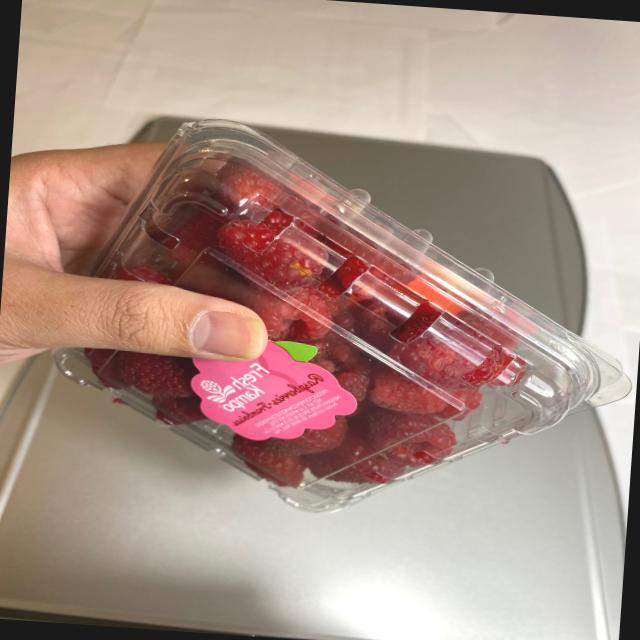raspberries: (108, 150, 554, 498)
